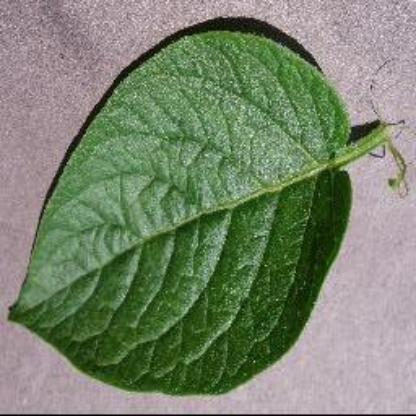Healthy-plant: (7, 22, 397, 400)
